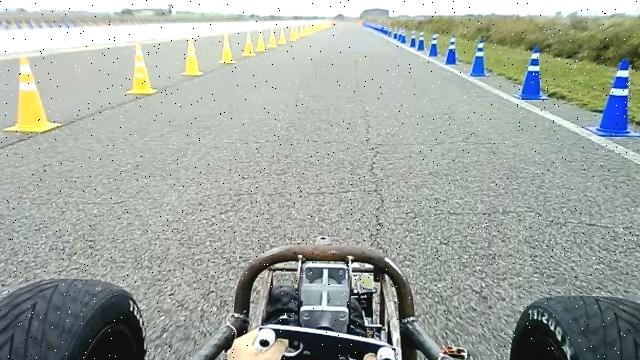blue cone: (585, 57, 640, 138), (513, 45, 549, 100), (468, 38, 491, 77), (444, 35, 459, 65), (428, 33, 439, 57), (416, 32, 425, 51), (398, 27, 407, 44), (409, 30, 417, 48)
yellow cone: (3, 55, 63, 133), (126, 43, 158, 94), (181, 37, 204, 76), (219, 33, 236, 64), (242, 32, 256, 57), (256, 29, 267, 52), (268, 28, 278, 49), (278, 26, 287, 45), (289, 25, 299, 42), (300, 25, 307, 38)
